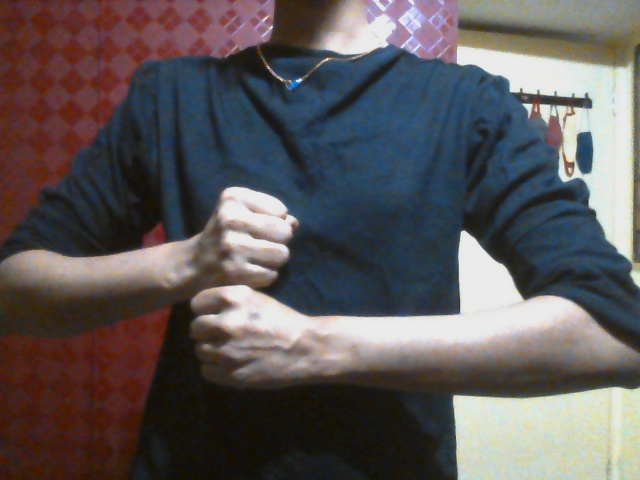G: (187, 184, 293, 394)
